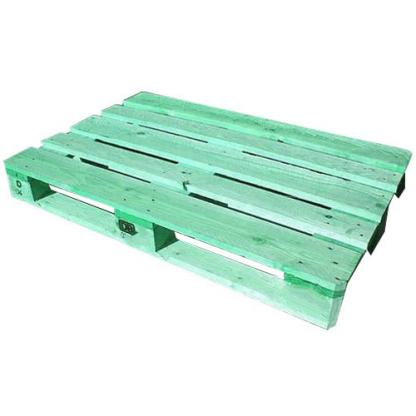BoxFace: (0, 88, 412, 335)
